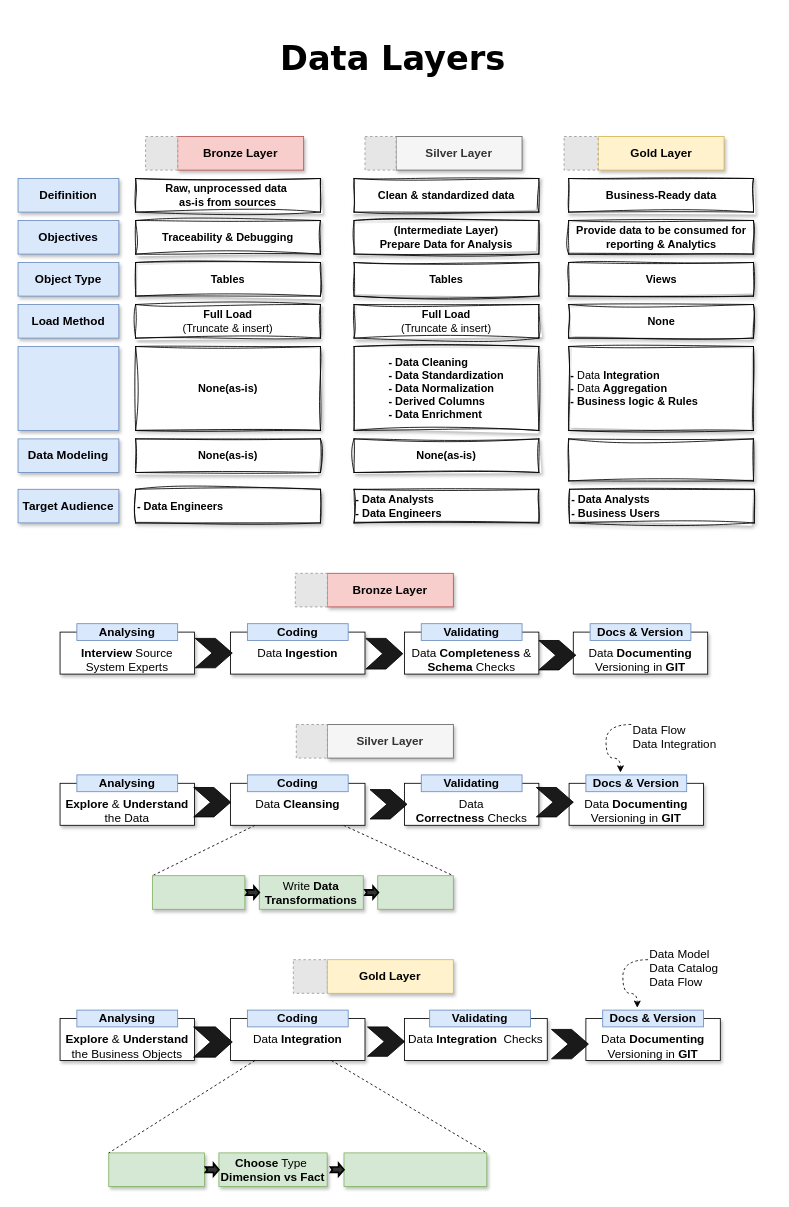
Some shapes in this 789 by 1207 pixel diagram are drawn without their labels. Grey dashed boxes stand in for pictures. Each missing label, with the centre of its shape:
"- Star Schema - Aggregated Objects - Flat Tables" belongs at [661,461].
"Build the Business object" belongs at [157,1170].
"Check Quality of Bronze" belongs at [199,893].
"Data Transformation" belongs at [69,389].
"Insert into Silver" belongs at [416,893].
"Rename to friendly column names" belongs at [416,1170].
